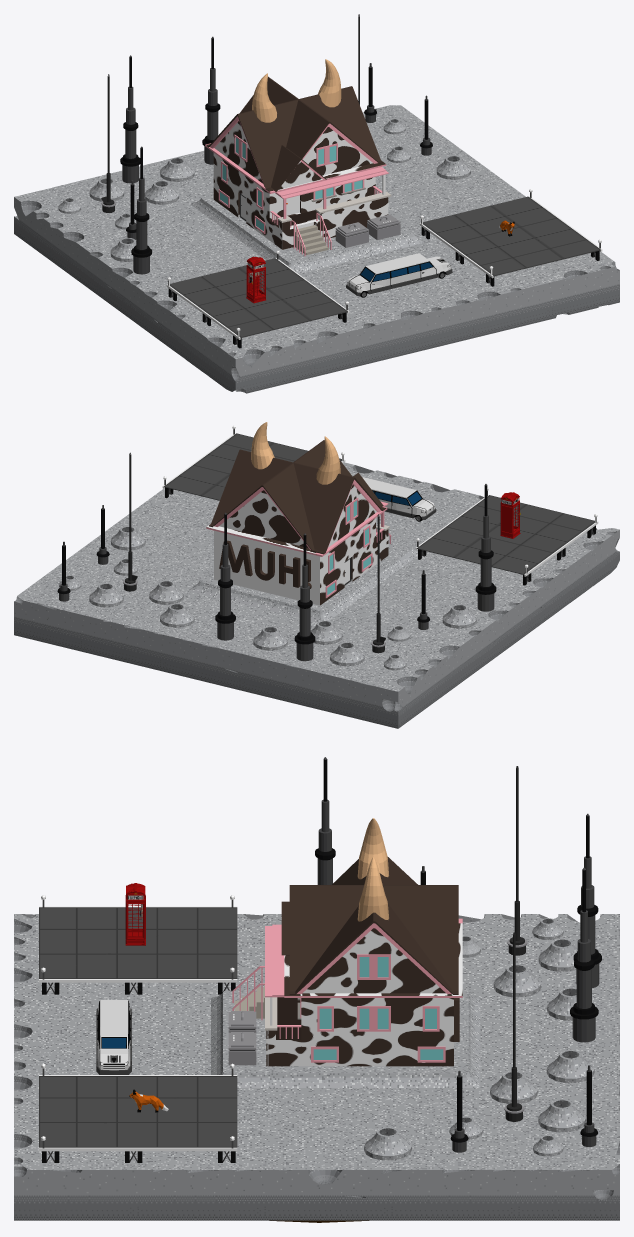
3 views of the same model, one above another, from view 1: azimuth 30°, elevation 25°; view 2: azimuth 150°, elevation 25°; view 3: azimuth 270°, elevation 25° (orthographic). The views are drawn at different scales.
Visible parts, largest first — view 1: Cube.027, Cube.1242, Cube.026, Cube.025, Cube.028, VEHICLES_LIMOUSINE, Cylinder.021, Cylinder.020, Cylinder.017, OBJRANDOM_PHONEBOOTH, Cube.029, Cube.030 (+5 smaller); view 2: Cube.027, Cube.1242, Cube.025, Cube.028, Cube.026, VEHICLES_LIMOUSINE, Cylinder.020, Cylinder.021, Cylinder.017, OBJRANDOM_PHONEBOOTH, Cylinder.025, Cylinder.027 (+8 smaller); view 3: Cube.027, Cube.1242, Cube.026, Cube.025, Cube.028, VEHICLES_LIMOUSINE, Cylinder.017, Cylinder.021, Cylinder.020, Cylinder.031, Cylinder.033, OBJRANDOM_PHONEBOOTH (+10 smaller).
Boxes of the visible parts, x1,y1,x2,y2 form: Cube.027: [14, 105, 619, 393]; Cube.1242: [205, 59, 391, 256]; Cube.026: [419, 189, 602, 286]; Cube.025: [166, 250, 349, 348]; Cube.028: [191, 194, 423, 273]; VEHICLES_LIMOUSINE: [346, 253, 452, 297]; Cylinder.021: [131, 146, 151, 274]; Cylinder.020: [120, 55, 140, 183]; Cylinder.017: [202, 36, 220, 164]; OBJRANDOM_PHONEBOOTH: [246, 256, 265, 303]; Cube.029: [335, 222, 368, 247]; Cube.030: [367, 214, 400, 240]; Cube.027: [14, 462, 619, 728]; Cube.1242: [206, 422, 391, 605]; Cube.025: [415, 487, 598, 585]; Cube.028: [189, 540, 417, 622]; Cube.026: [162, 425, 345, 500]; VEHICLES_LIMOUSINE: [362, 477, 436, 521]; Cylinder.020: [294, 533, 315, 661]; Cylinder.021: [475, 484, 496, 611]; Cylinder.017: [215, 512, 235, 640]; OBJRANDOM_PHONEBOOTH: [500, 492, 520, 538]; Cylinder.025: [442, 604, 476, 628]; Cylinder.027: [253, 626, 287, 650]; Cube.027: [14, 914, 619, 1220]; Cube.1242: [232, 818, 462, 1066]; Cube.026: [39, 1063, 237, 1162]; Cube.025: [39, 895, 237, 994]; Cube.028: [211, 990, 480, 1087]; VEHICLES_LIMOUSINE: [96, 1000, 131, 1074]; Cylinder.017: [570, 867, 598, 1042]; Cylinder.021: [315, 757, 335, 884]; Cylinder.020: [573, 813, 601, 987]; Cylinder.031: [538, 1099, 585, 1132]; Cylinder.033: [364, 1127, 411, 1160]; OBJRANDOM_PHONEBOOTH: [125, 883, 145, 945].
Size of the model in its own units: 4000 by 2004 by 4000.
Materials: 47 (4 with a texture image).
